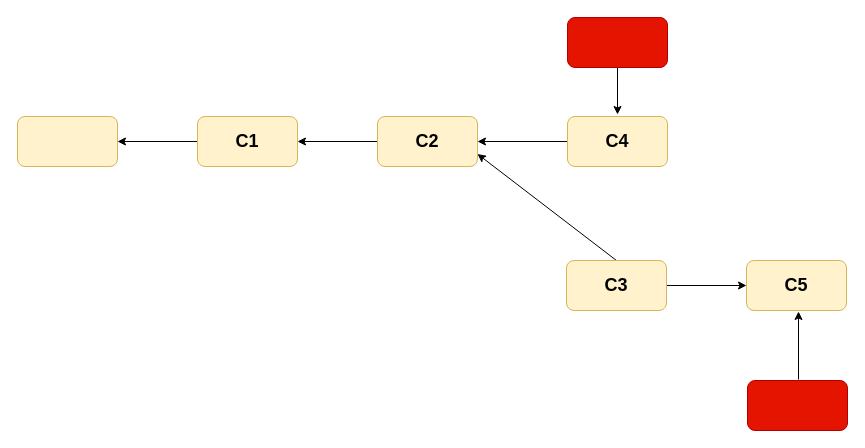
Some shapes in this 865 by 448 pixel diagram are drawn without their labels. Here are the shapes that lost their labels. From the top down, the centre of each, then its label:
pixel 617 42: master
pixel 67 141: C0
pixel 797 405: feature
